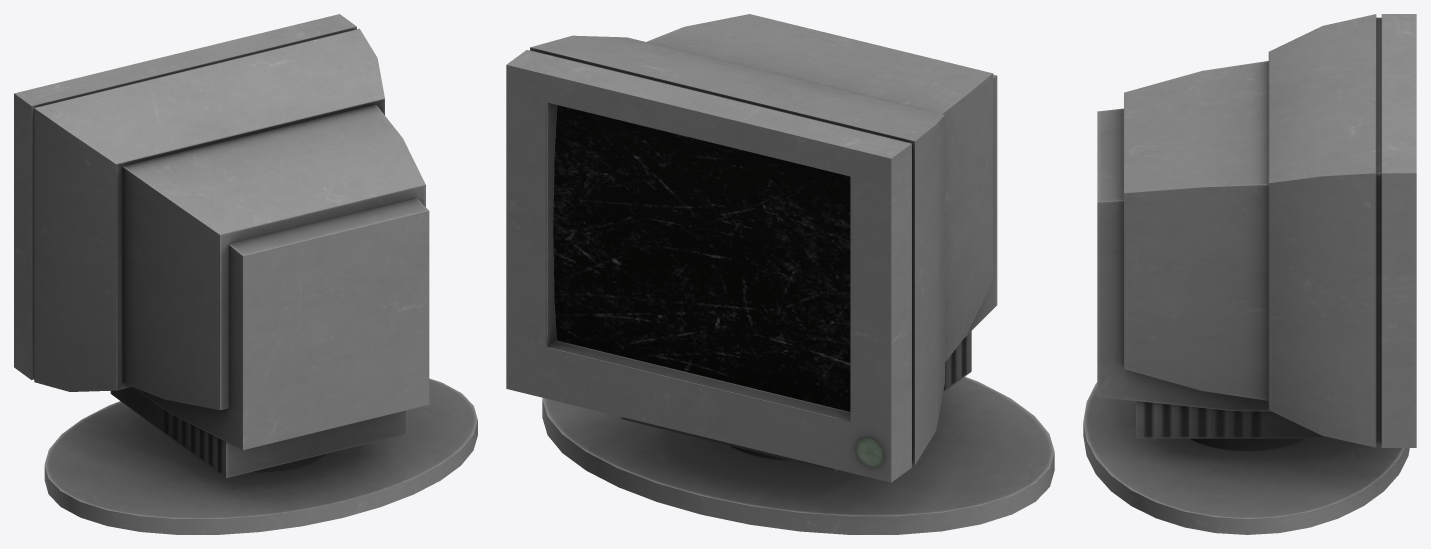
File: Monitor.fbx
3 renders of one model, left to right at view 1: azimuth 30°, elevation 25°; view 2: azimuth 150°, elevation 25°; view 3: azimuth 270°, elevation 25°, orthographic. The views are drawn at different scales.
Visible parts, largest first — view 1: Monitor; view 2: Monitor; view 3: Monitor.
Part boxes in pixels (box(x1,y1,x2,y2)): Monitor: box(14, 14, 477, 534); Monitor: box(506, 14, 1054, 534); Monitor: box(1083, 14, 1416, 534).
Bounding box in the file's own units: 33.25 × 37.82 × 46.34.
